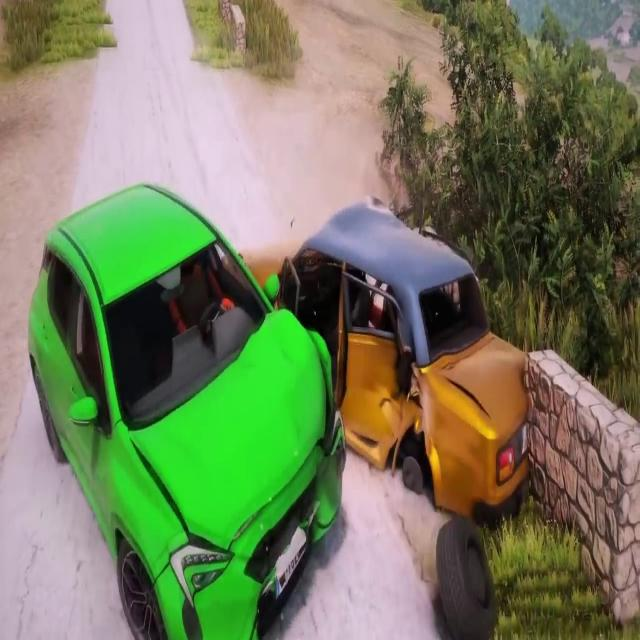accident: (25, 175, 531, 640)
